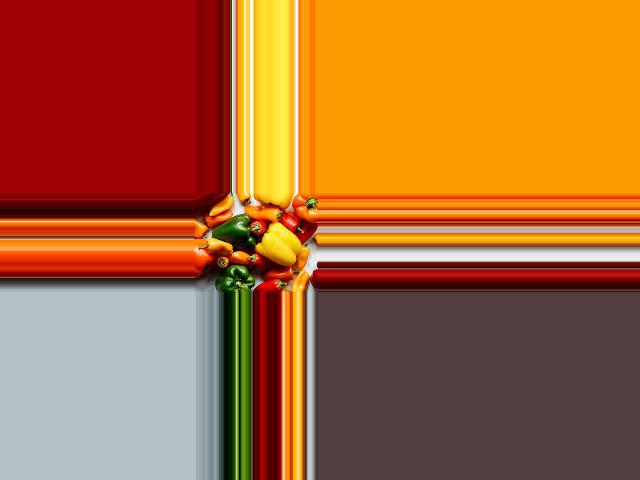bell_pepper: (256, 275, 288, 292)
